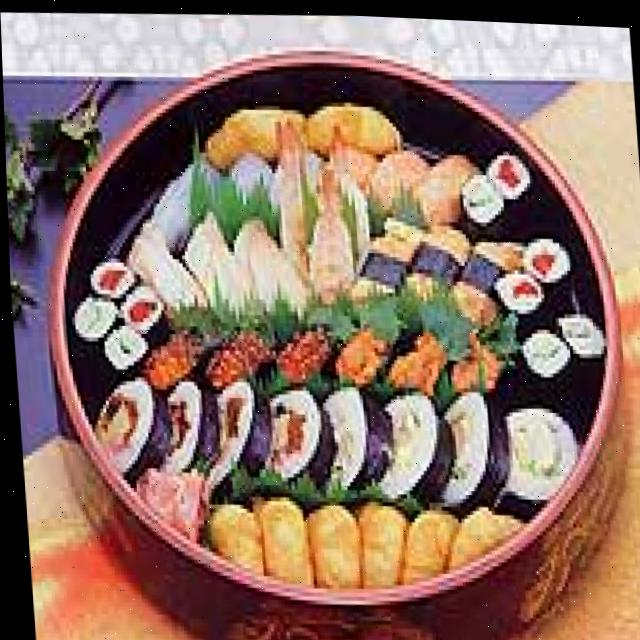寿司卷物: (25, 27, 622, 640)
